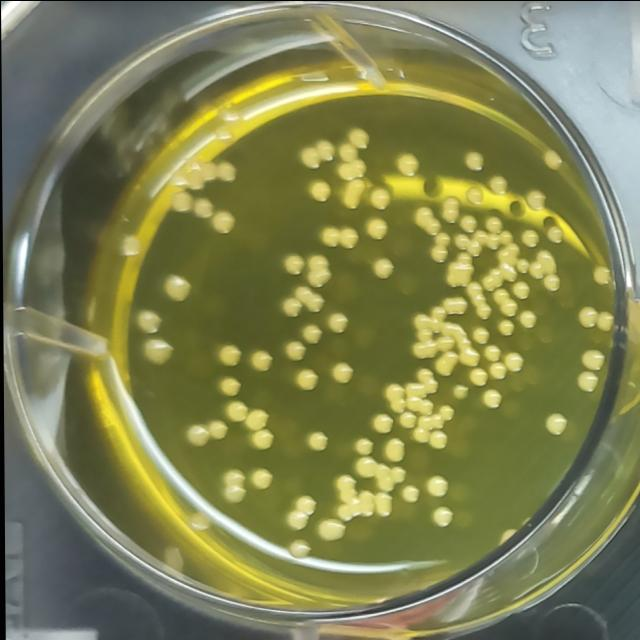StaphyloPositive: (334, 126, 371, 182), (186, 155, 237, 190), (284, 493, 317, 532), (332, 472, 357, 522), (298, 138, 334, 171), (443, 252, 475, 288), (143, 334, 177, 366), (219, 464, 245, 504), (416, 404, 454, 431), (466, 279, 491, 320), (291, 284, 325, 314), (305, 249, 330, 289), (341, 177, 367, 214), (162, 270, 193, 300), (246, 463, 276, 494), (245, 345, 275, 375), (390, 150, 421, 179), (321, 226, 358, 250), (213, 341, 243, 369), (300, 426, 330, 454), (382, 380, 406, 414), (209, 207, 237, 236), (294, 364, 320, 394), (423, 471, 451, 498), (243, 404, 272, 430), (542, 410, 568, 438), (361, 212, 387, 240), (136, 307, 163, 333), (279, 250, 304, 278), (330, 359, 355, 385), (366, 184, 391, 210), (371, 254, 396, 280), (216, 373, 242, 398), (305, 178, 331, 202), (183, 423, 209, 447), (249, 426, 273, 451), (206, 416, 229, 442), (325, 310, 349, 334), (223, 398, 247, 422), (441, 293, 467, 313), (426, 429, 448, 449), (449, 380, 467, 400)
